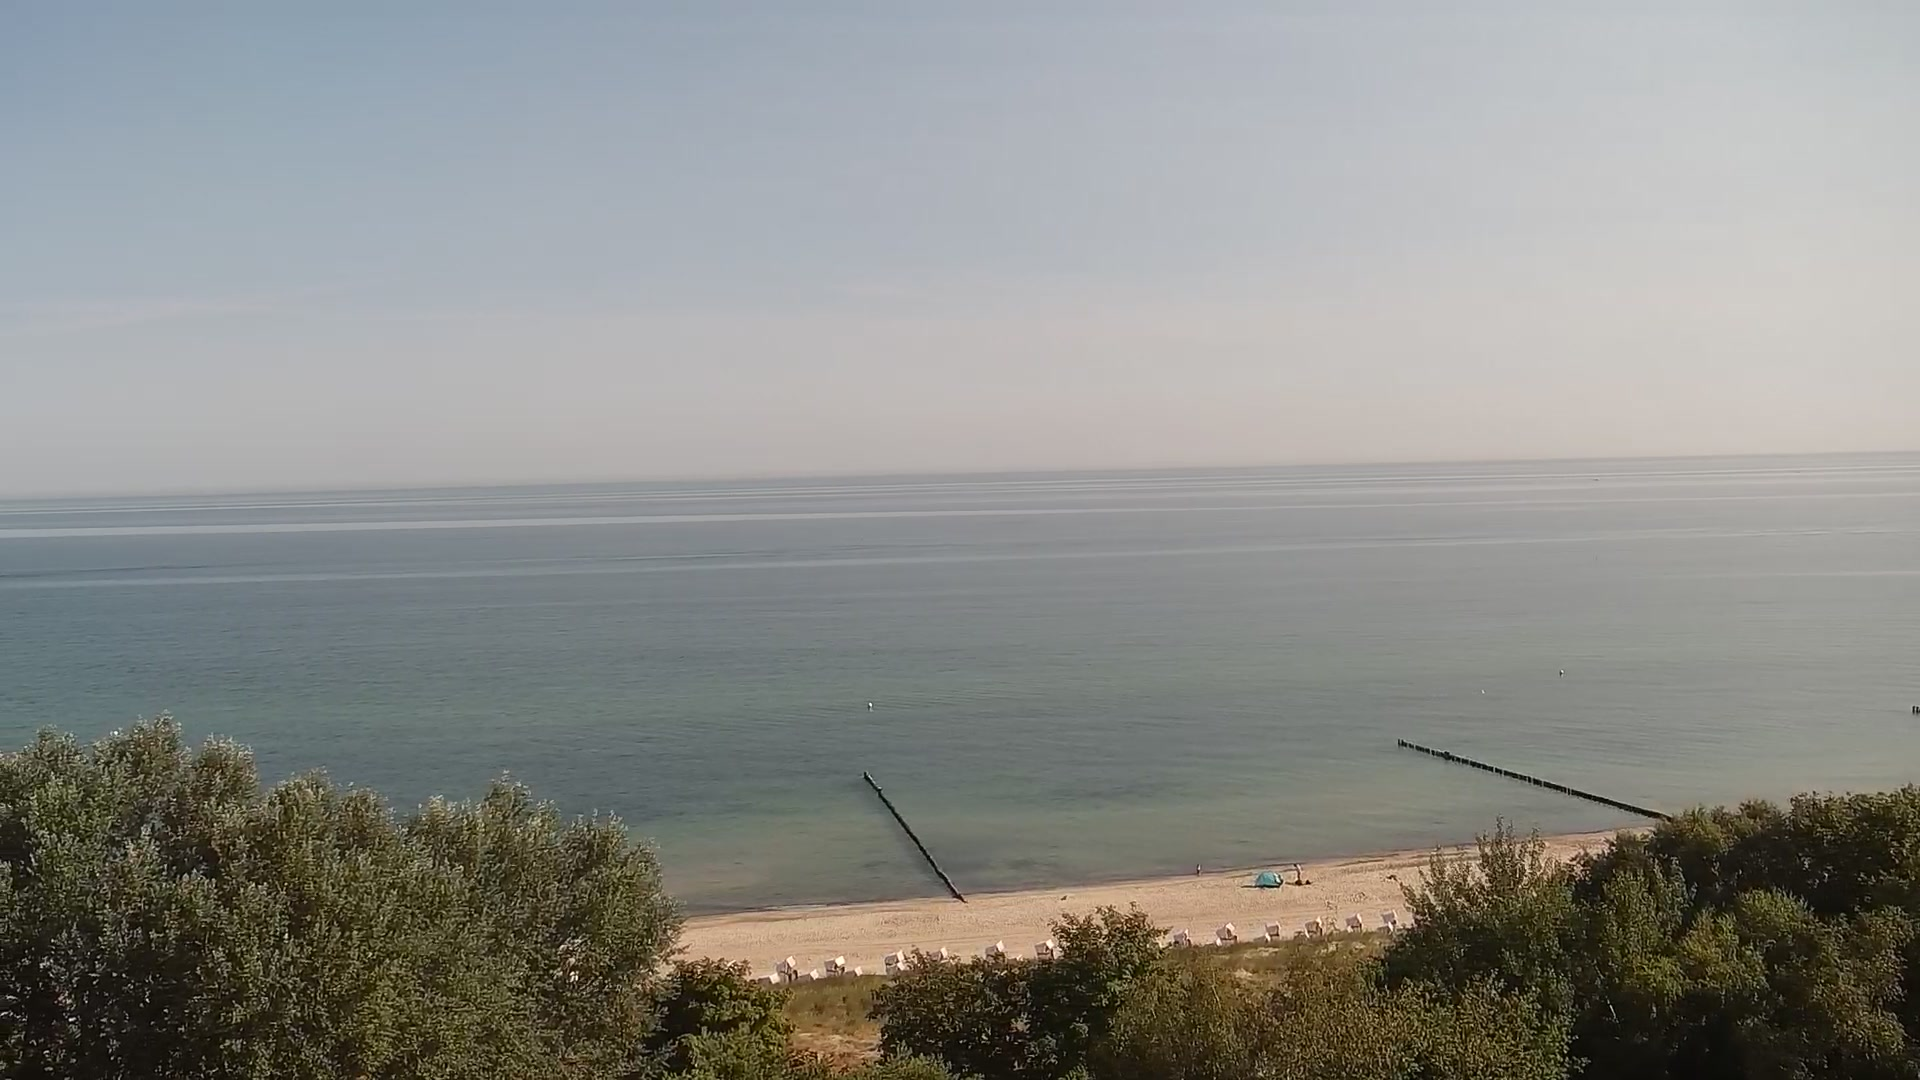human: (1292, 861, 1303, 884), (1195, 862, 1201, 876)
